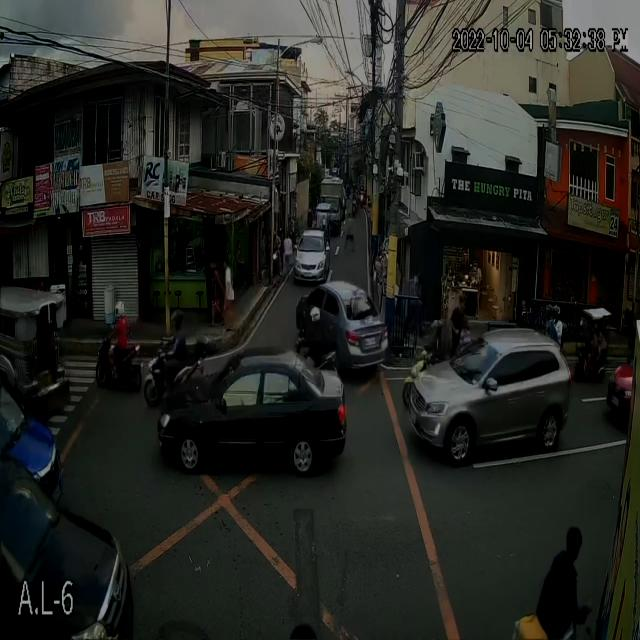Full-Faced: (168, 309, 184, 332), (112, 299, 126, 318), (550, 302, 562, 323), (543, 301, 553, 322)
Not-Wearing-Helmet: (563, 525, 582, 557)
